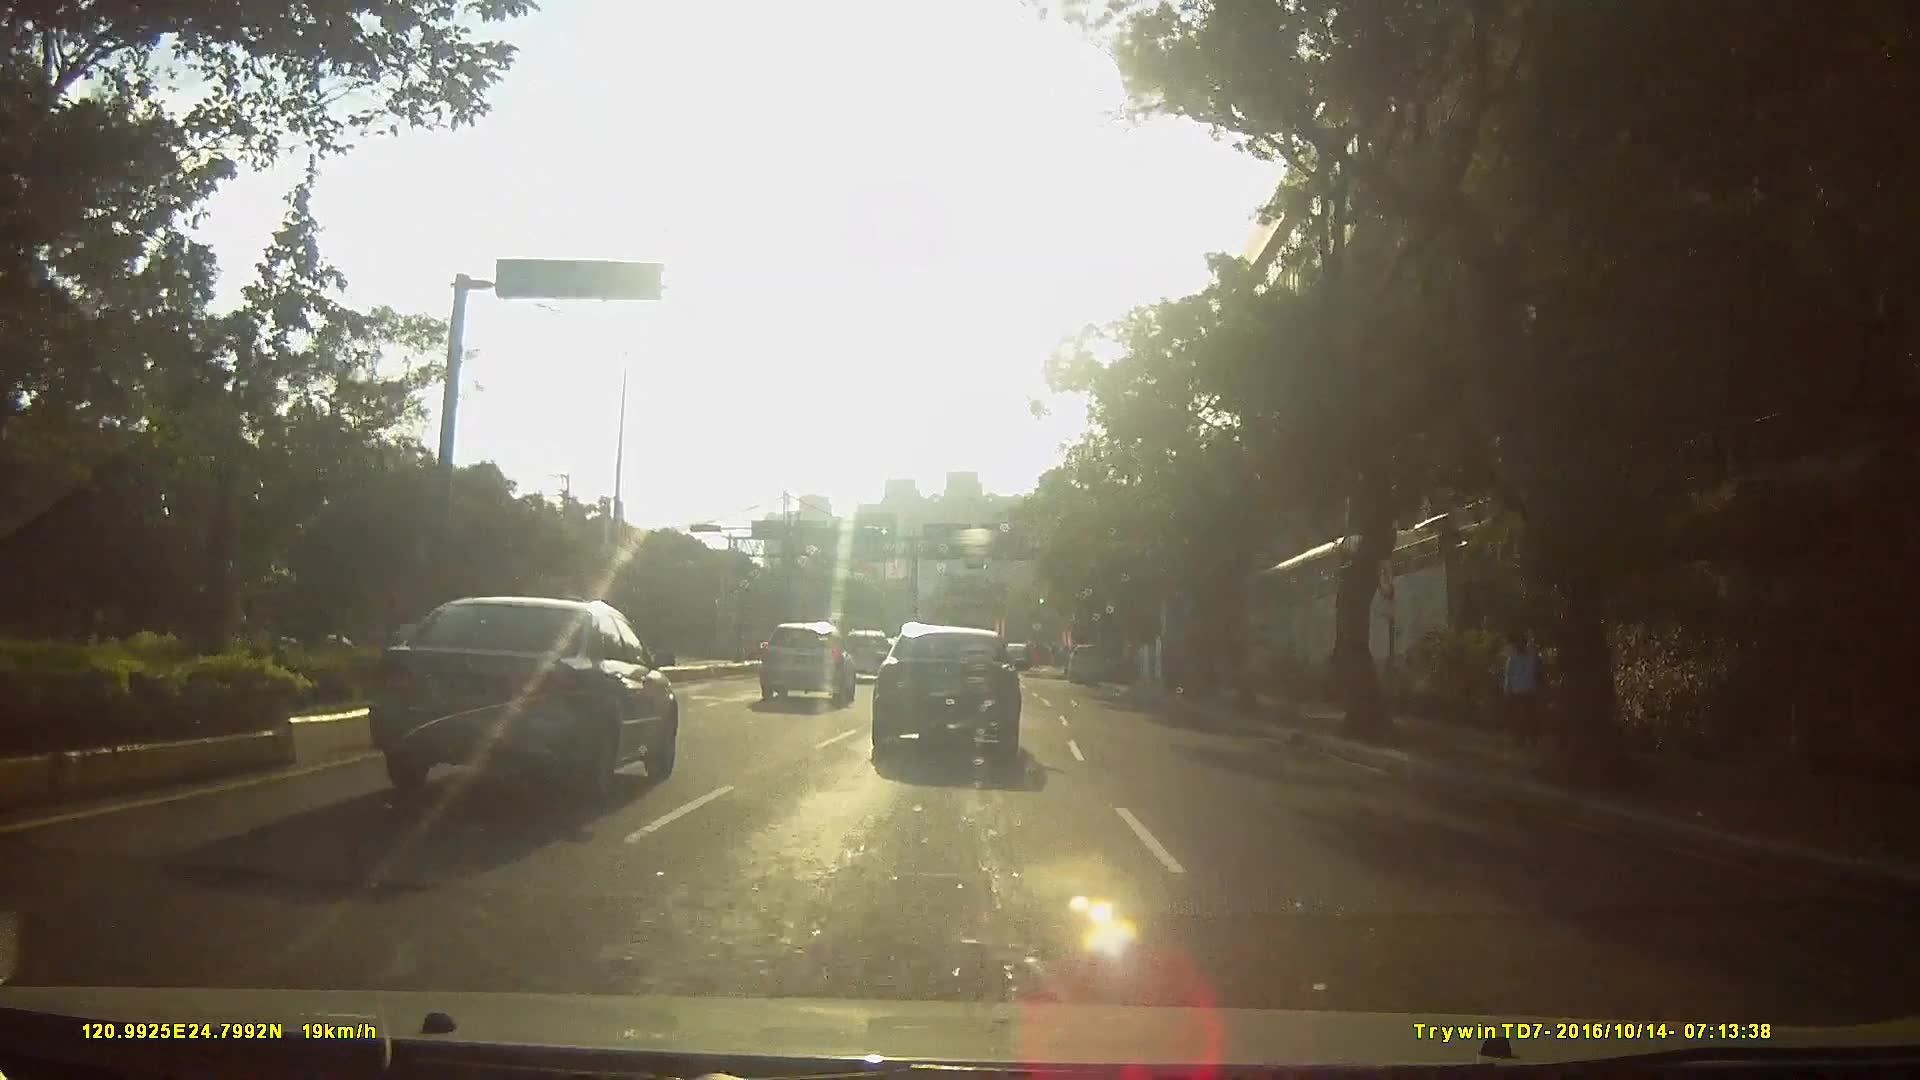pedestrian: (1499, 622, 1549, 748)
vehicle: (362, 585, 676, 798), (868, 616, 1041, 759), (758, 618, 858, 706), (840, 624, 894, 682), (1066, 635, 1115, 679)
